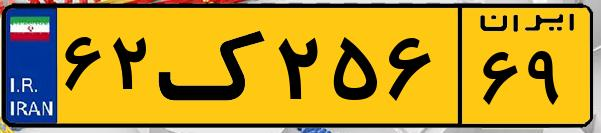2: (270, 28, 330, 110), (110, 28, 158, 98)
5: (330, 28, 385, 110)
6: (385, 28, 445, 110), (57, 26, 110, 100), (475, 38, 525, 113)
9: (525, 38, 570, 115)
ک: (158, 12, 270, 120)
